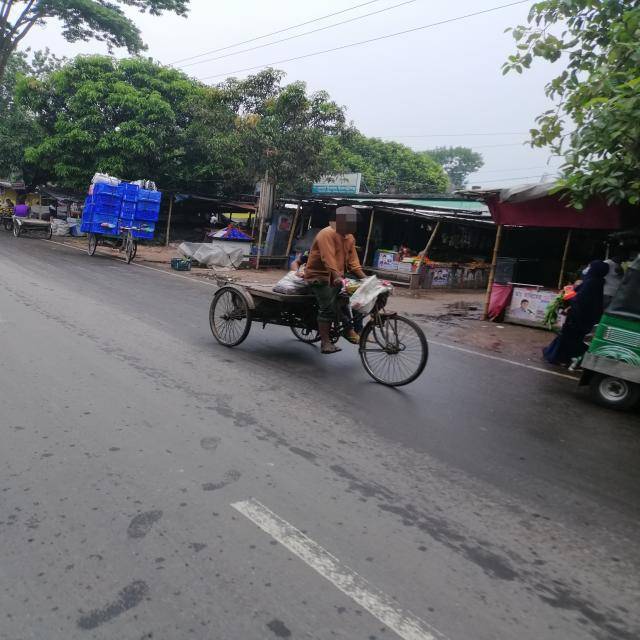Van: (200, 263, 436, 393)
